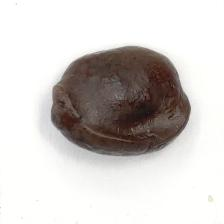NG: (56, 78, 173, 141)
